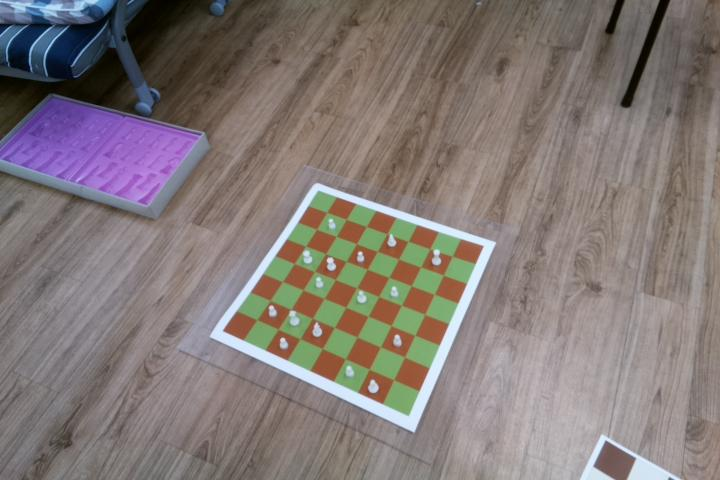chessboard-detect: (224, 191, 485, 416)
